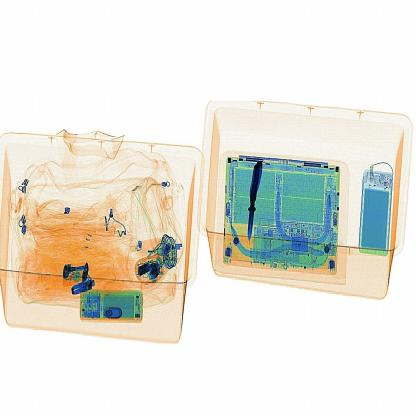gun: (236, 150, 268, 247)
